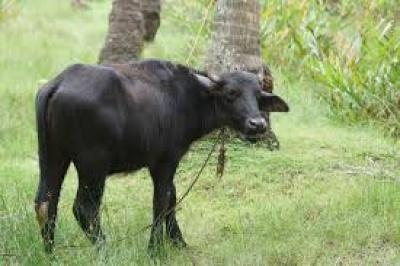buffalo: (35, 59, 288, 255)
